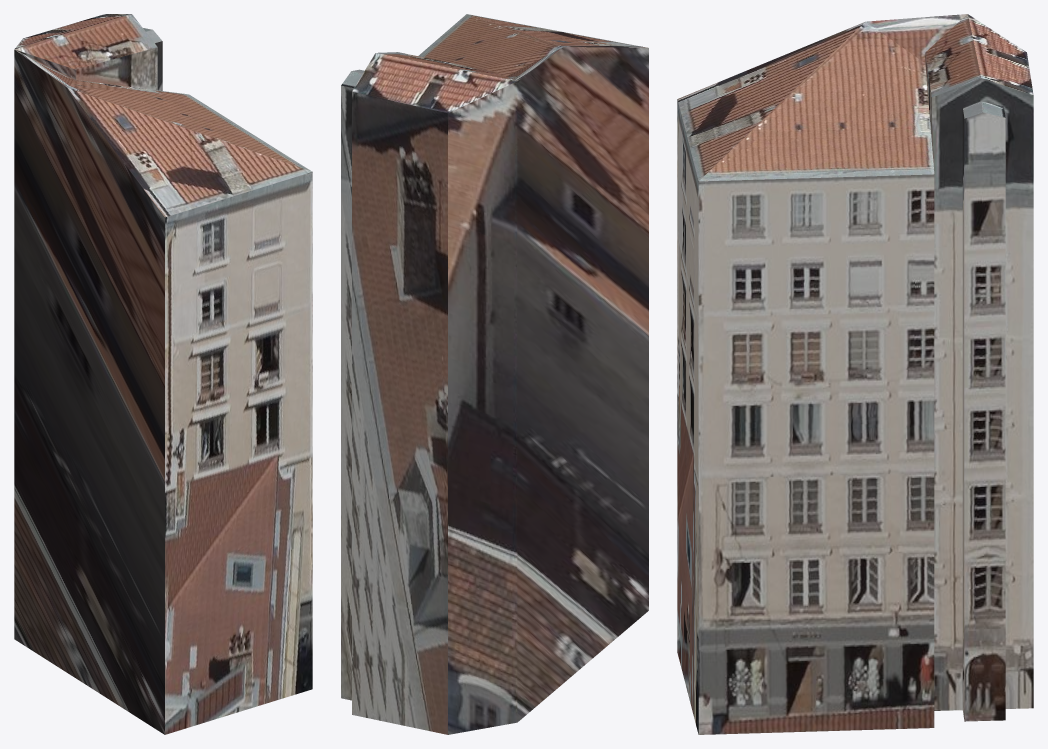
3 views of the same model, side by side, from view 1: azimuth 30°, elevation 25°; view 2: azimuth 150°, elevation 25°; view 3: azimuth 270°, elevation 25° (orthographic). The views are drawn at different scales.
Visible parts, largest first — view 1: Z_UP; view 2: Z_UP; view 3: Z_UP.
Part boxes in pixels (x1=…): Z_UP: x1=14, y1=14, x2=312, y2=734; Z_UP: x1=341, y1=14, x2=648, y2=734; Z_UP: x1=677, y1=14, x2=1033, y2=734.
Size of the model in its own units: 8.47 by 27.69 by 14.16.
2 materials, 1 textured.
